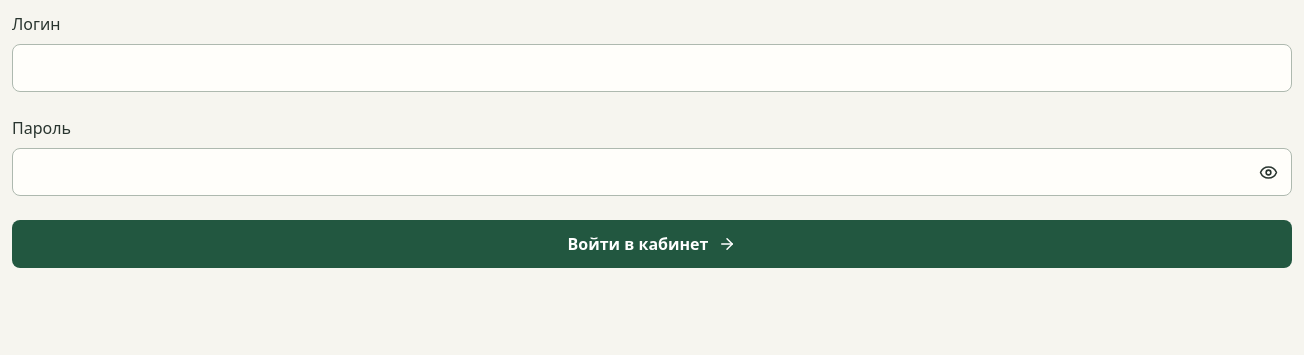
Test: failed login explains the error and preserves entered values
In the field labelled "Логин": x=652, y=68 [12,44,1292,92], type "fixture-user"
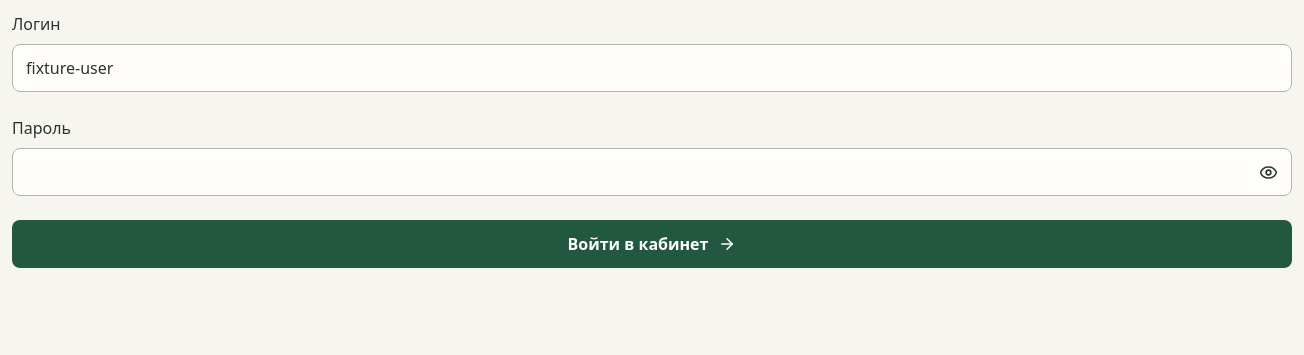
In the password field labelled "Пароль": x=652, y=172 [12,148,1292,196], type "FICTIONAL-ONLY"
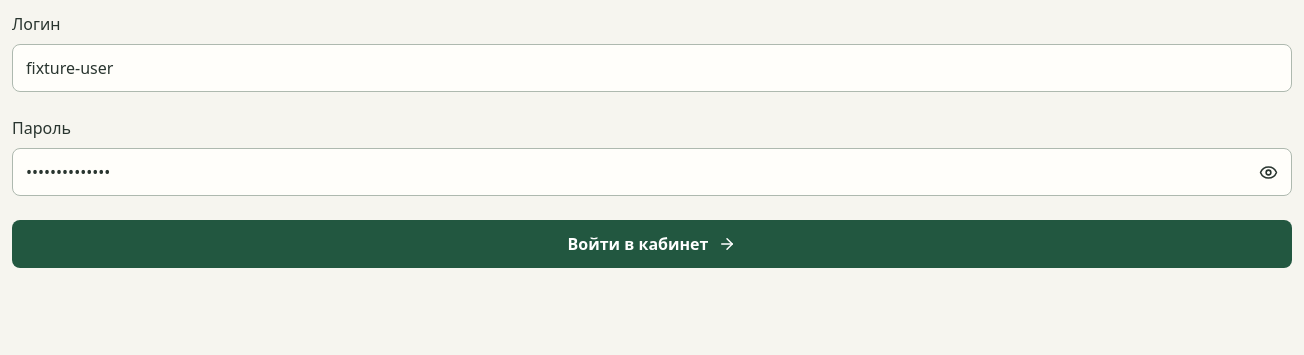
Click the button "Войти в кабинет": x=652, y=244 [12,220,1292,268]
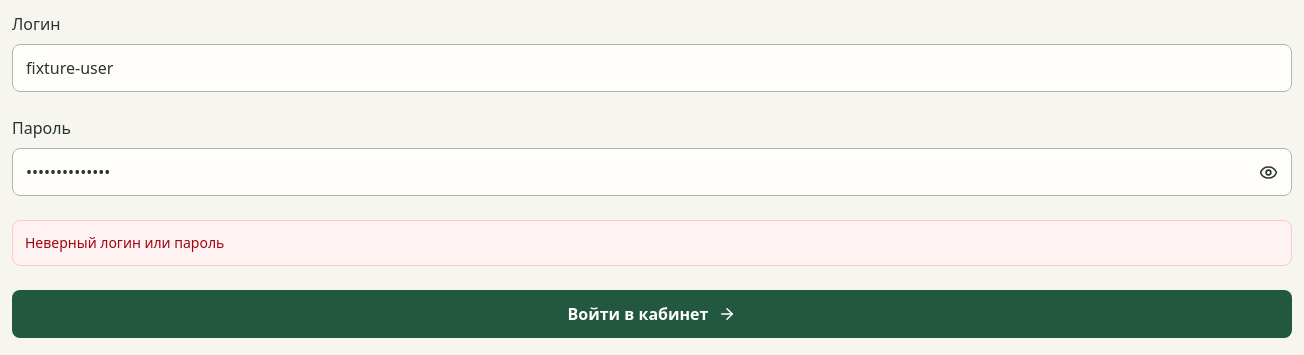
Check: the button "Войти в кабинет" is enabled, box [12,290,1292,338]
Check: the message reads "Неверный логин или пароль", box [25,233,224,252]
